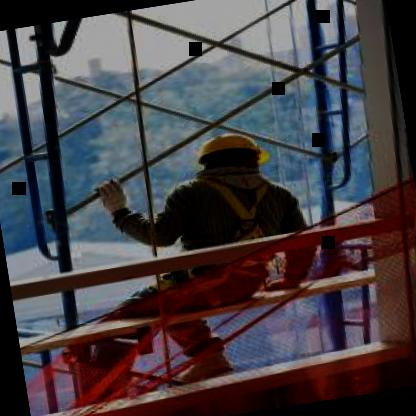helmet: (181, 118, 274, 199)
